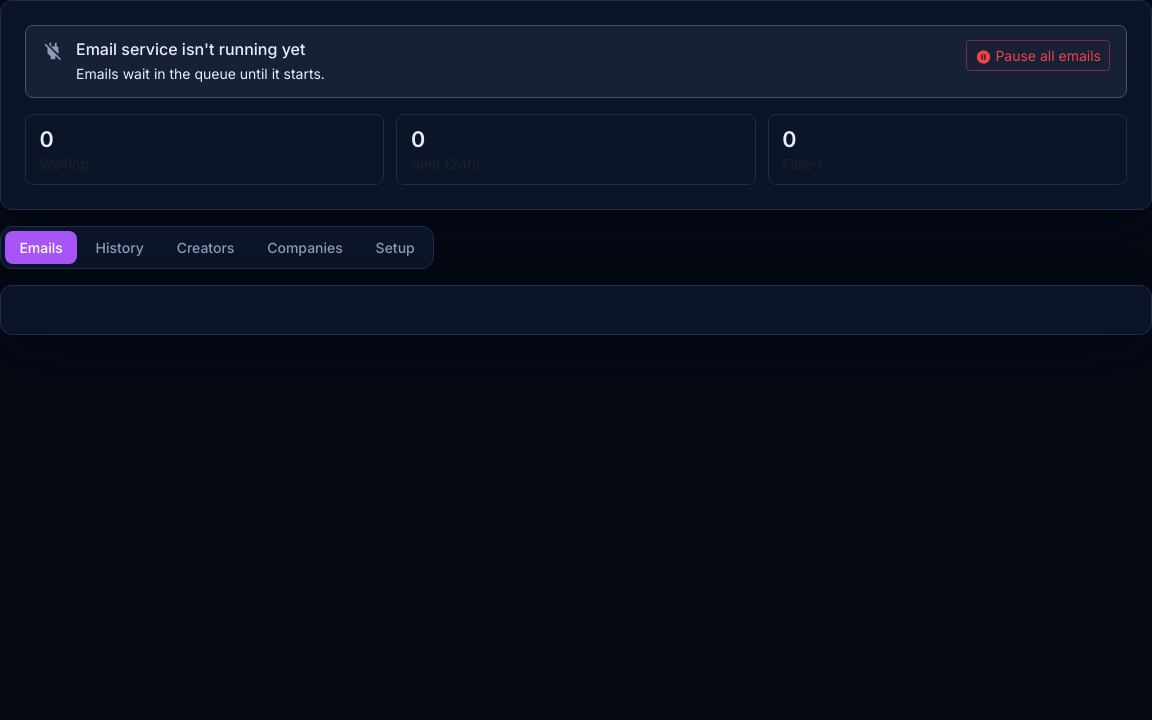
EmailTriggersPage › loads creators only when their tab is opened
Click the tab "Creators" at [206, 248], box top-left (162, 231), bottom-right (249, 264)
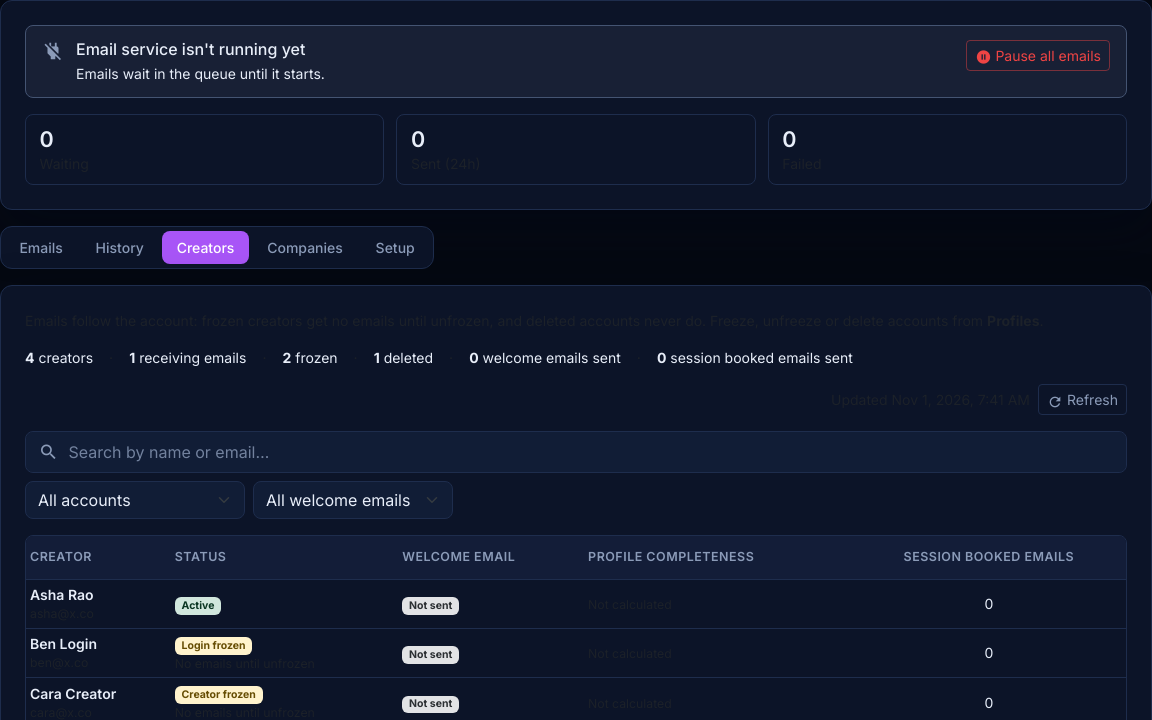
expect the text "Asha Rao" is shown: met, box top-left (30, 586), bottom-right (94, 603)
